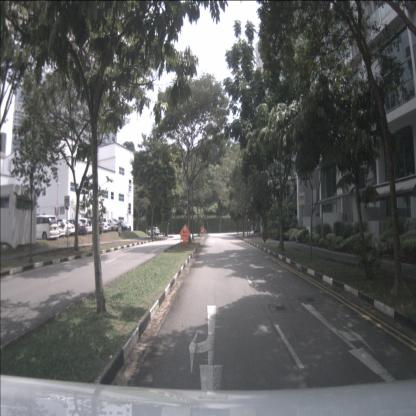human-pedestrian-adult: (118, 224, 122, 241)
vehicle-car: (31, 215, 59, 241), (52, 219, 75, 238), (45, 219, 66, 239), (62, 220, 86, 236), (74, 218, 92, 235), (99, 218, 119, 232), (92, 217, 108, 233), (107, 219, 126, 232), (112, 220, 131, 232), (148, 227, 160, 236)
